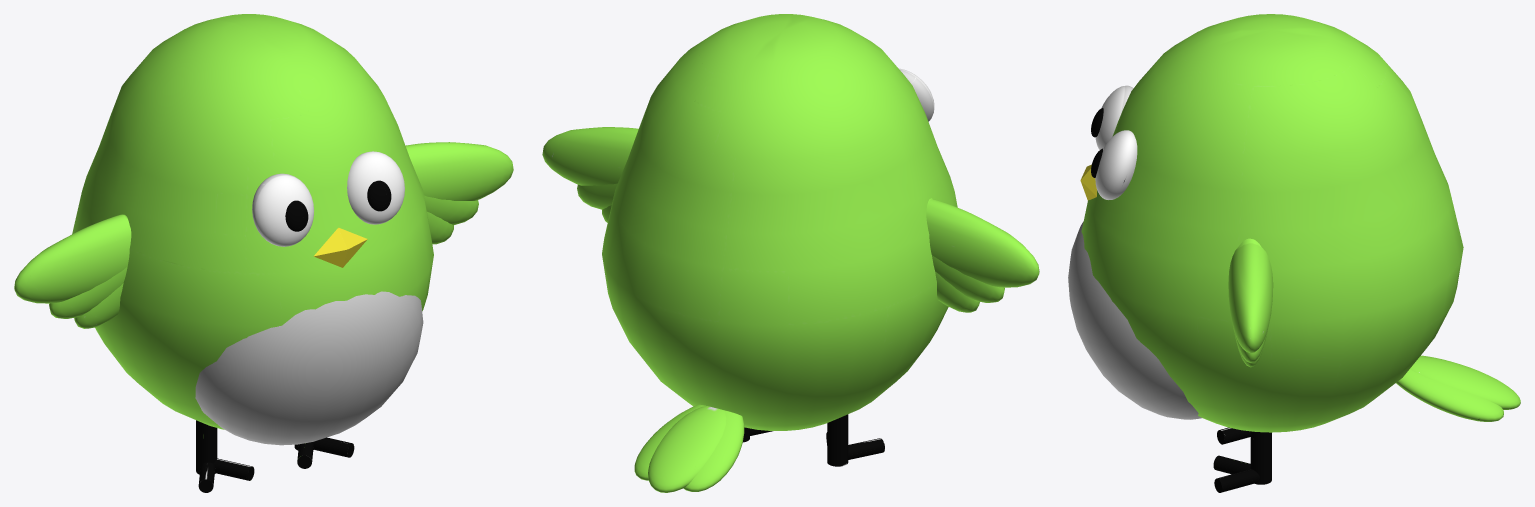
Rendered from mejiro_new.obj.
3 views of the same model, side by side, from view 1: azimuth 30°, elevation 25°; view 2: azimuth 150°, elevation 25°; view 3: azimuth 270°, elevation 25° (orthographic).
Parts seen in each view (by area): view 1: Object, Sphere, Sphere.010, Sphere.012, Sphere.003, Sphere.001, Sphere.006, Cone, Sphere.013, Sphere.011, Cylinder, Cylinder.001 (+4 smaller); view 2: Object, Sphere.010, Sphere.012, Sphere.008, Sphere.009, Sphere.006, Cylinder, Sphere.007, Sphere.011, Sphere.013, Sphere.003, Cylinder.002; view 3: Object, Sphere, Sphere.012, Sphere.008, Sphere.007, Sphere.001, Sphere.003, Cylinder.006, Cylinder.007, Cylinder.008.
Boxes of the visible parts, x1,y1,x2,y2 form: Object: [72, 14, 433, 429]; Sphere: [195, 291, 423, 445]; Sphere.010: [14, 214, 131, 303]; Sphere.012: [405, 142, 513, 200]; Sphere.003: [252, 173, 313, 246]; Sphere.001: [347, 151, 404, 224]; Sphere.006: [49, 214, 127, 318]; Cone: [313, 227, 367, 267]; Sphere.013: [424, 195, 478, 224]; Sphere.011: [74, 283, 123, 328]; Cylinder: [196, 420, 217, 474]; Cylinder.001: [214, 458, 254, 480]; Object: [602, 14, 957, 430]; Sphere.010: [926, 199, 1039, 287]; Sphere.012: [542, 127, 638, 185]; Sphere.008: [648, 406, 726, 492]; Sphere.009: [683, 410, 744, 491]; Sphere.006: [928, 198, 1004, 302]; Cylinder: [827, 414, 848, 466]; Sphere.007: [634, 404, 705, 480]; Sphere.011: [935, 271, 979, 312]; Sphere.013: [577, 183, 617, 209]; Sphere.003: [899, 68, 934, 121]; Cylinder.002: [848, 438, 884, 459]; Object: [1081, 14, 1463, 432]; Sphere: [1068, 221, 1201, 419]; Sphere.012: [1228, 243, 1273, 353]; Sphere.008: [1410, 356, 1520, 409]; Sphere.007: [1396, 369, 1503, 421]; Sphere.001: [1095, 130, 1137, 199]; Sphere.003: [1095, 85, 1133, 149]; Cylinder.006: [1250, 431, 1271, 484]; Cylinder.007: [1214, 469, 1259, 492]; Cylinder.008: [1213, 455, 1250, 474].
Size of the model in its own units: 2.72 by 2.21 by 2.12.
Materials: 22 (21 with a texture image).
